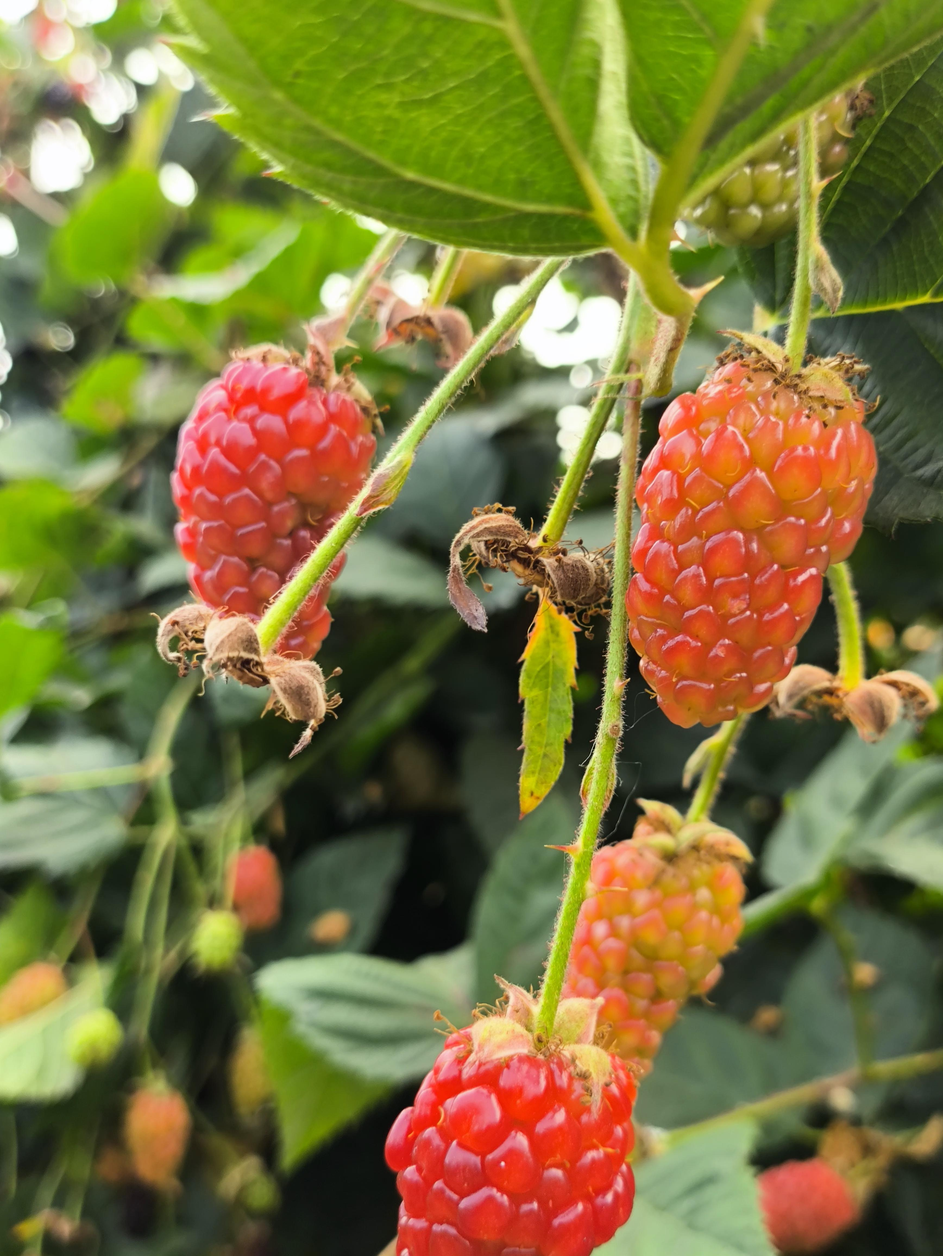naranja: (626, 351, 875, 726), (384, 983, 634, 1256), (170, 346, 374, 619), (563, 803, 744, 1070)
